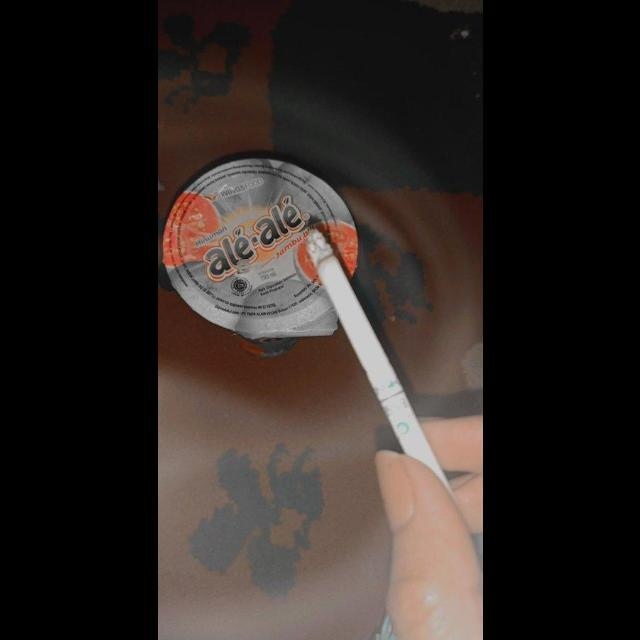rokok: (300, 221, 452, 501)
